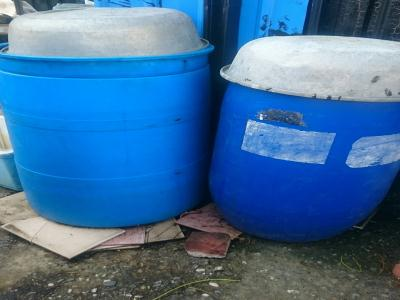bowl: (216, 32, 400, 104), (1, 4, 211, 61)
bucket: (1, 40, 215, 227), (206, 79, 399, 249)
